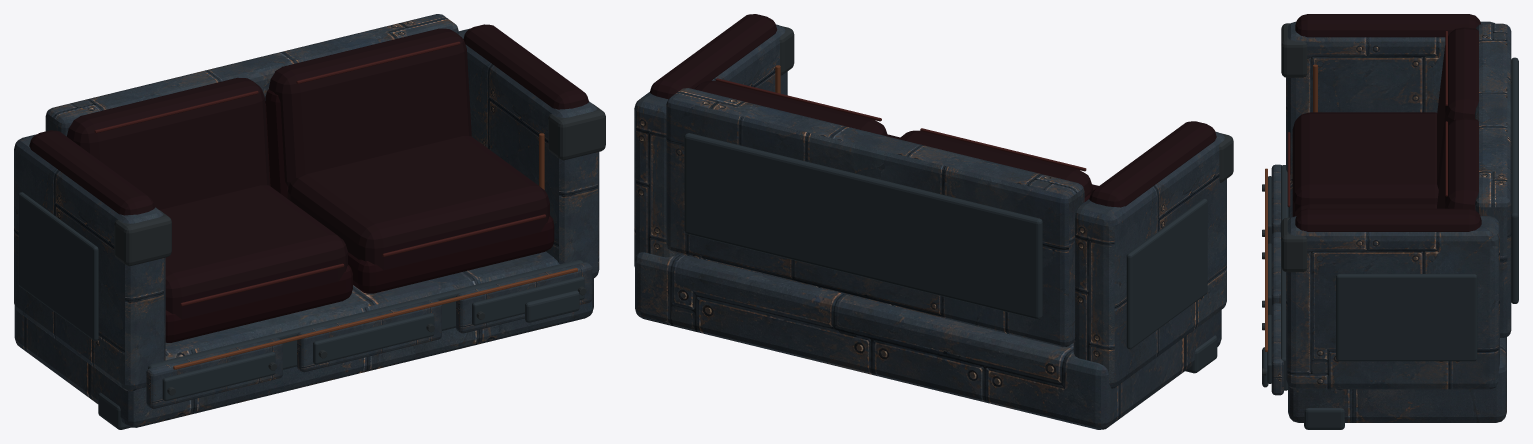
Rendered from APT_Couch_2Seat_Rust.glb.
3 views of the same model, side by side, from view 1: azimuth 30°, elevation 25°; view 2: azimuth 150°, elevation 25°; view 3: azimuth 270°, elevation 25° (orthographic). The views are drawn at different scales.
Parts seen in each view (by area): view 1: CouchE_Seat_R, CouchE_Back_R, CouchE_BaseShell, CouchE_Back_L, CouchE_Seat_L, CouchE_ArmShell_L, CouchE_ArmShell_R, CouchE_ArmInset_L, CouchE_BackFrame, CouchE_SeatShadow_R, CouchE_SeatShadow_L, CouchE_ArmPad_L (+18 smaller); view 2: CouchE_BaseShell, CouchE_BackRecess, CouchE_BackFrame, CouchE_ArmShell_L, CouchE_ArmInset_L, CouchE_ArmShell_R, CouchE_ArmPad_L, CouchE_ArmPad_R, CouchE_Back_L, CouchE_Back_R, CouchE_Foot_L, CouchF_SideCapFront_L (+3 smaller); view 3: CouchE_ArmShell_R, CouchE_Seat_L, CouchE_ArmInset_R, CouchE_ArmShell_L, CouchE_BackFrame, CouchE_BaseShell, CouchE_ArmPad_R, CouchE_ArmPad_L, CouchE_Back_L, CouchE_Back_R, CouchE_BackRecess, CouchF_SideCapFront_L (+12 smaller).
Part boxes in pixels (x1=…): CouchE_Seat_R: x1=287, y1=135, x2=549, y2=269; CouchE_Back_R: x1=269, y1=28, x2=471, y2=187; CouchE_BaseShell: x1=14, y1=251, x2=593, y2=427; CouchE_Back_L: x1=67, y1=77, x2=269, y2=209; CouchE_Seat_L: x1=159, y1=185, x2=347, y2=319; CouchE_ArmShell_L: x1=14, y1=134, x2=165, y2=391; CouchE_ArmShell_R: x1=458, y1=28, x2=599, y2=278; CouchE_ArmInset_L: x1=18, y1=192, x2=98, y2=340; CouchE_BackFrame: x1=45, y1=14, x2=458, y2=136; CouchE_SeatShadow_R: x1=348, y1=215, x2=554, y2=293; CouchE_SeatShadow_L: x1=165, y1=264, x2=352, y2=342; CouchE_ArmPad_L: x1=29, y1=130, x2=155, y2=215; CouchE_BaseShell: x1=635, y1=252, x2=1221, y2=429; CouchE_BackRecess: x1=684, y1=133, x2=1042, y2=319; CouchE_BackFrame: x1=666, y1=88, x2=1084, y2=347; CouchE_ArmShell_L: x1=1073, y1=131, x2=1226, y2=388; CouchE_ArmInset_L: x1=1126, y1=198, x2=1207, y2=349; CouchE_ArmShell_R: x1=634, y1=24, x2=787, y2=266; CouchE_ArmPad_L: x1=1089, y1=121, x2=1216, y2=207; CouchE_ArmPad_R: x1=649, y1=14, x2=777, y2=99; CouchE_Back_L: x1=899, y1=130, x2=1092, y2=197; CouchE_Back_R: x1=694, y1=80, x2=887, y2=136; CouchE_Foot_L: x1=1185, y1=335, x2=1217, y2=373; CouchF_SideCapFront_L: x1=1219, y1=133, x2=1233, y2=182; CouchE_ArmShell_R: x1=1286, y1=216, x2=1499, y2=389; CouchE_Seat_L: x1=1292, y1=112, x2=1438, y2=216; CouchE_ArmInset_R: x1=1336, y1=274, x2=1477, y2=361; CouchE_ArmShell_L: x1=1286, y1=21, x2=1494, y2=174; CouchE_BackFrame: x1=1475, y1=23, x2=1511, y2=337; CouchE_BaseShell: x1=1288, y1=173, x2=1506, y2=422; CouchE_ArmPad_R: x1=1295, y1=208, x2=1481, y2=231; CouchE_ArmPad_L: x1=1295, y1=14, x2=1480, y2=37; CouchE_Back_L: x1=1437, y1=27, x2=1478, y2=189; CouchE_Back_R: x1=1437, y1=118, x2=1478, y2=209; CouchE_BackRecess: x1=1511, y1=57, x2=1518, y2=303; CouchF_SideCapFront_L: x1=1281, y1=23, x2=1307, y2=77.
Bounding box in the file's own units: 2.27 × 1.05 × 1.13.
7 materials, 2 textured.
